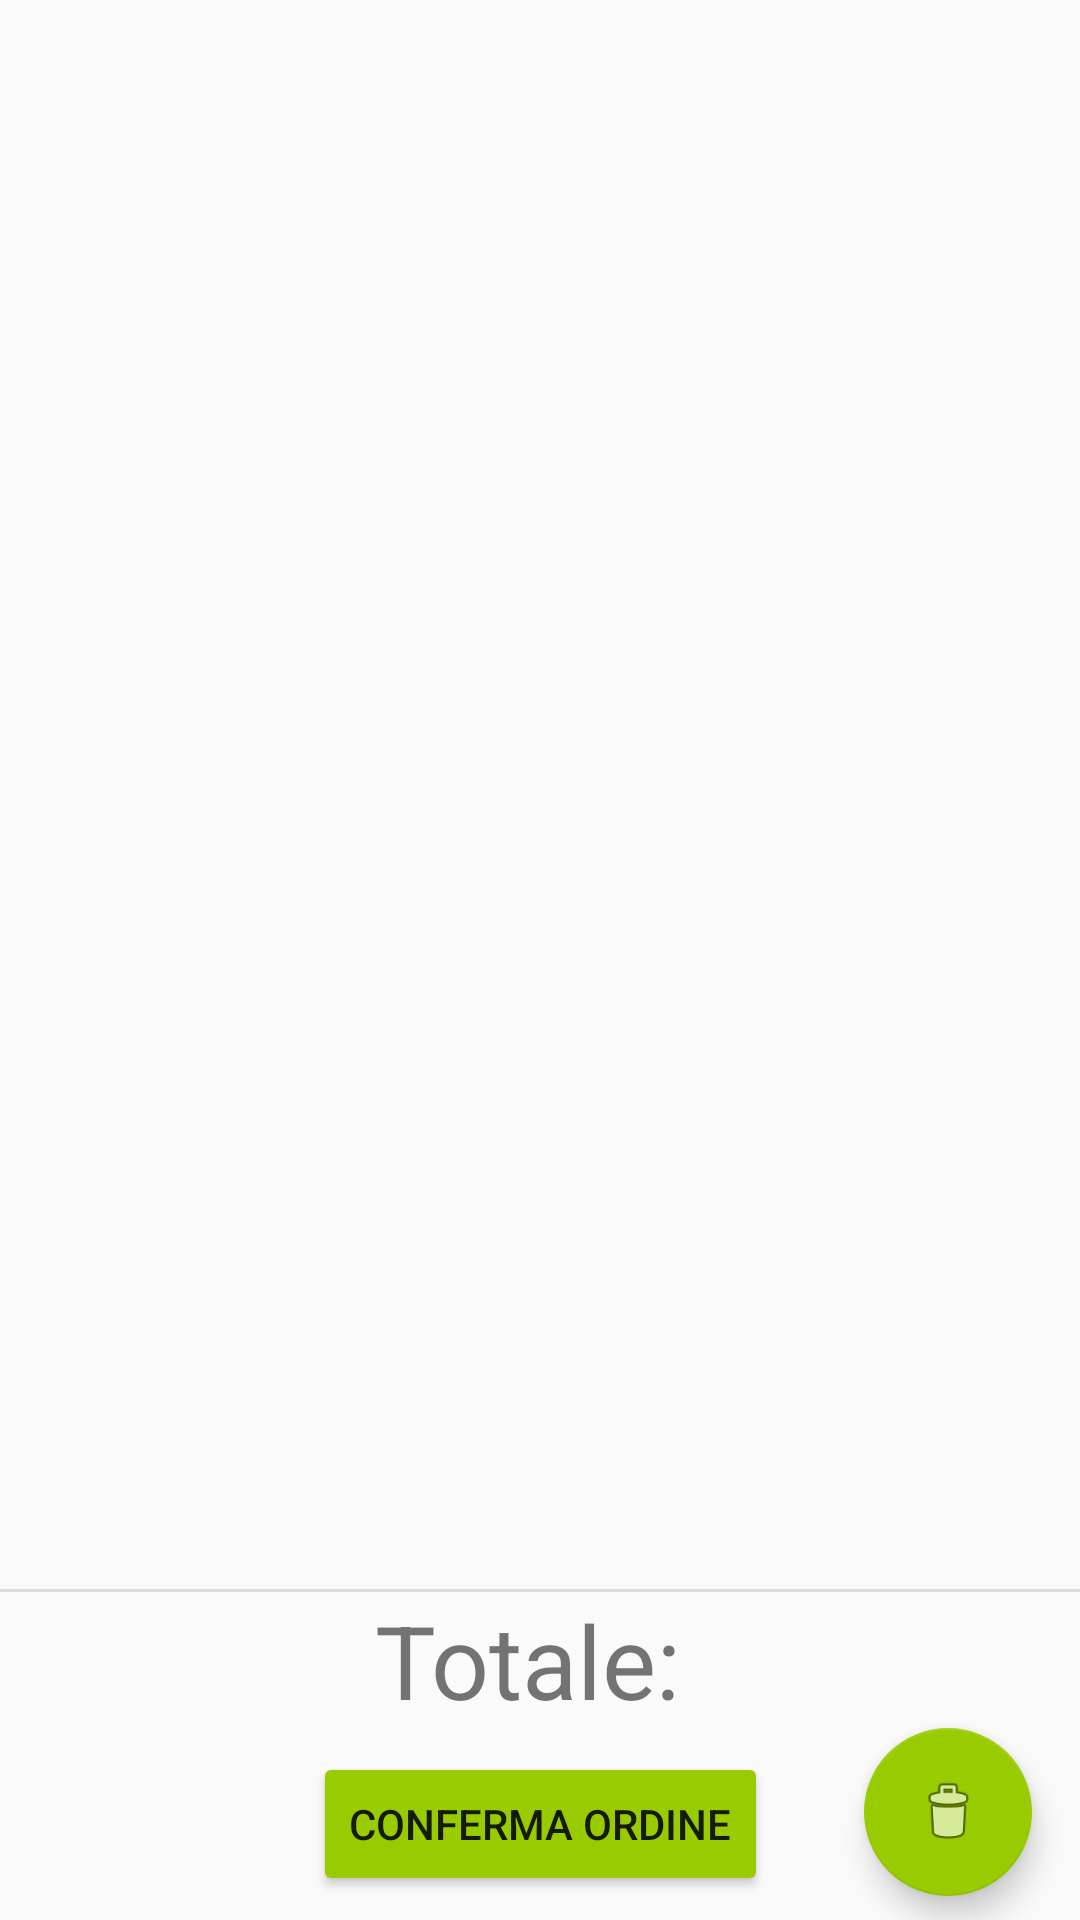

Where icons sit on this 1080 x 1920 app screen, as region(x1, y1, x2, y2):
delete: region(864, 1728, 1032, 1896)
